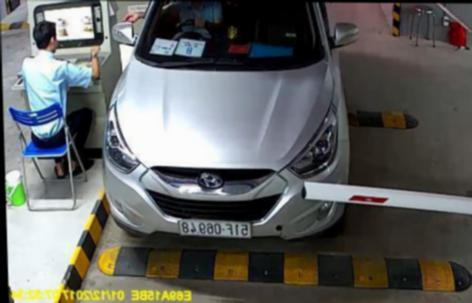License_Plate: (175, 217, 254, 240)
